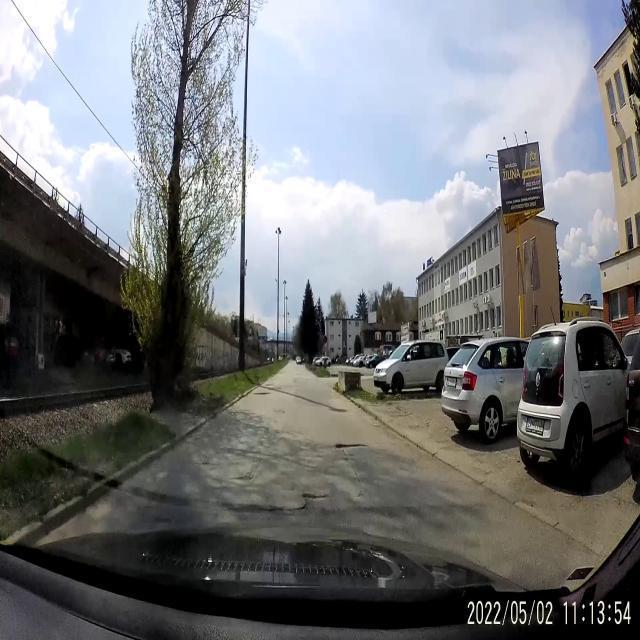Pothole: (294, 488, 330, 518), (332, 439, 370, 458), (253, 388, 276, 400)
